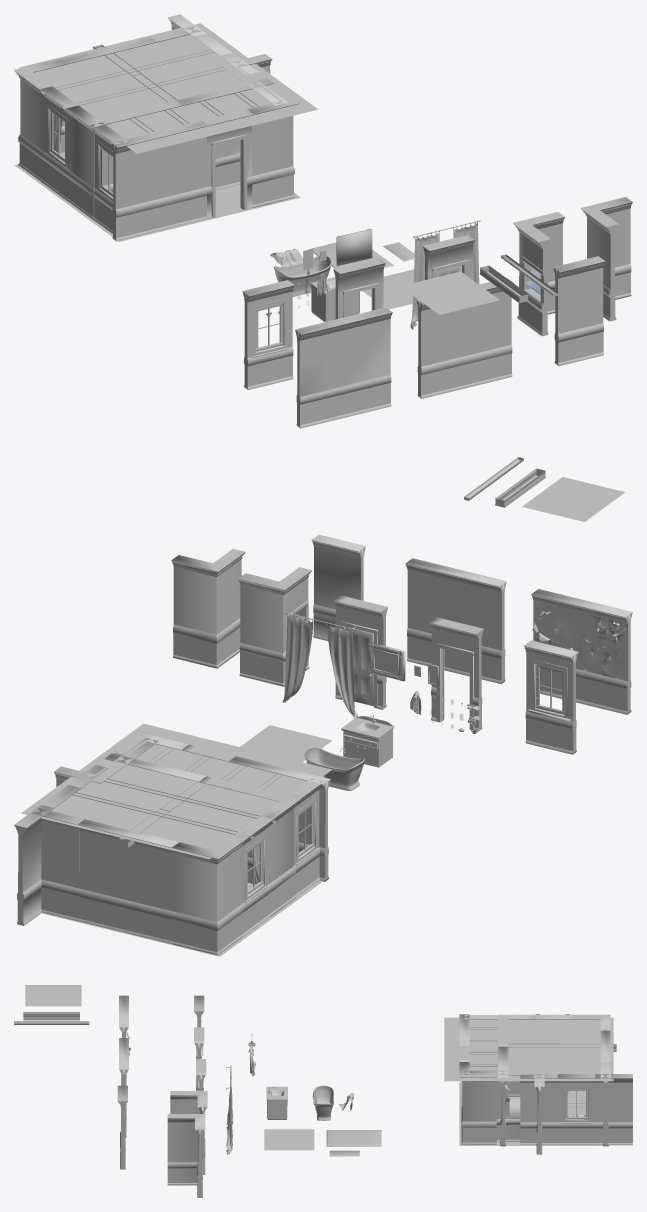
The picture shows the model from 3 angles, top to bottom: view 1: azimuth 30°, elevation 25°; view 2: azimuth 150°, elevation 25°; view 3: azimuth 270°, elevation 25°; orthographic projection. The views are drawn at different scales.
Visible parts, largest first — view 1: Selling_top.001, Wall_Dam1_long, Wall_Clear_long.002, Wall_Clear_long, Wall_Clear_Short, Wall_Window, Wall_corner_shelf, Wall_Corner.004, Wall_Corner, Wall_Corner.001, Wall_Corner.002, Wall_Window.002 (+16 smaller); view 2: Selling_top.001, Wall_Clear_long.001, Wall_Dam1_long, Wall_Clear_long, Wall_Corner, Wall_Corner.002, Wall_corner_shelf, Wall_Window, Wall_Clear_Short.003, Wall_Clear_Short, Curtain_flat, Wall_Doorway (+16 smaller); view 3: Selling_top.001, Wall_Corner, Wall_Corner.004, Wall_Clear_Short.001, Wall_Clear_Short.002, Wall_Window.001, Wall_corner_shelf.001, Selling_top, Floor tile, Wall_corner_shelf, Fabric_Carpet, Floor tile.001 (+15 smaller).
Part boxes in pixels (x1,y1,x2,y2): Selling_top.001: (19, 23, 318, 153); Wall_Dam1_long: (295, 307, 392, 428); Wall_Clear_long.002: (111, 120, 208, 241); Wall_Clear_long: (416, 278, 513, 398); Wall_Clear_Short: (553, 256, 605, 366); Wall_Window: (242, 280, 294, 389); Wall_corner_shelf: (513, 212, 564, 336); Wall_Corner.004: (247, 84, 299, 207); Wall_Corner: (581, 197, 632, 321); Wall_Corner.001: (66, 105, 137, 220); Wall_Corner.002: (14, 59, 66, 182); Wall_Window.002: (40, 86, 78, 201); Selling_top.001: (21, 723, 331, 859); Wall_Clear_long.001: (77, 819, 178, 944); Wall_Dam1_long: (531, 589, 632, 714); Wall_Clear_long: (405, 558, 506, 683); Wall_Corner: (171, 549, 245, 668); Wall_Corner.002: (172, 836, 245, 955); Wall_corner_shelf: (238, 567, 312, 686); Wall_Window: (524, 640, 578, 754); Wall_Clear_Short.003: (30, 807, 84, 921); Wall_Clear_Short: (311, 534, 365, 640); Curtain_flat: (282, 611, 358, 718); Wall_Doorway: (429, 617, 483, 731); Selling_top.001: (444, 1017, 613, 1081); Wall_Corner: (167, 1114, 205, 1197); Wall_Corner.004: (459, 1062, 496, 1144); Wall_Clear_Short.001: (595, 1074, 632, 1145); Wall_Clear_Short.002: (520, 1074, 557, 1144); Wall_Window.001: (557, 1074, 595, 1144); Wall_corner_shelf.001: (507, 1070, 544, 1154); Selling_top: (25, 985, 81, 1006); Floor tile: (264, 1129, 314, 1150); Wall_corner_shelf: (170, 1091, 207, 1174); Fabric_Carpet: (326, 1130, 381, 1146); Floor tile.001: (459, 1082, 609, 1145).
Size of the model in its own units: 11.53 by 4.26 by 22.45.
